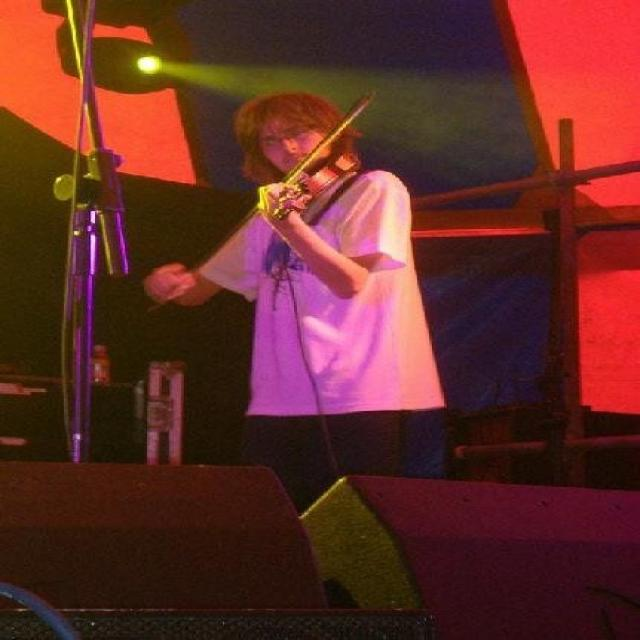violin: (276, 151, 366, 218)
